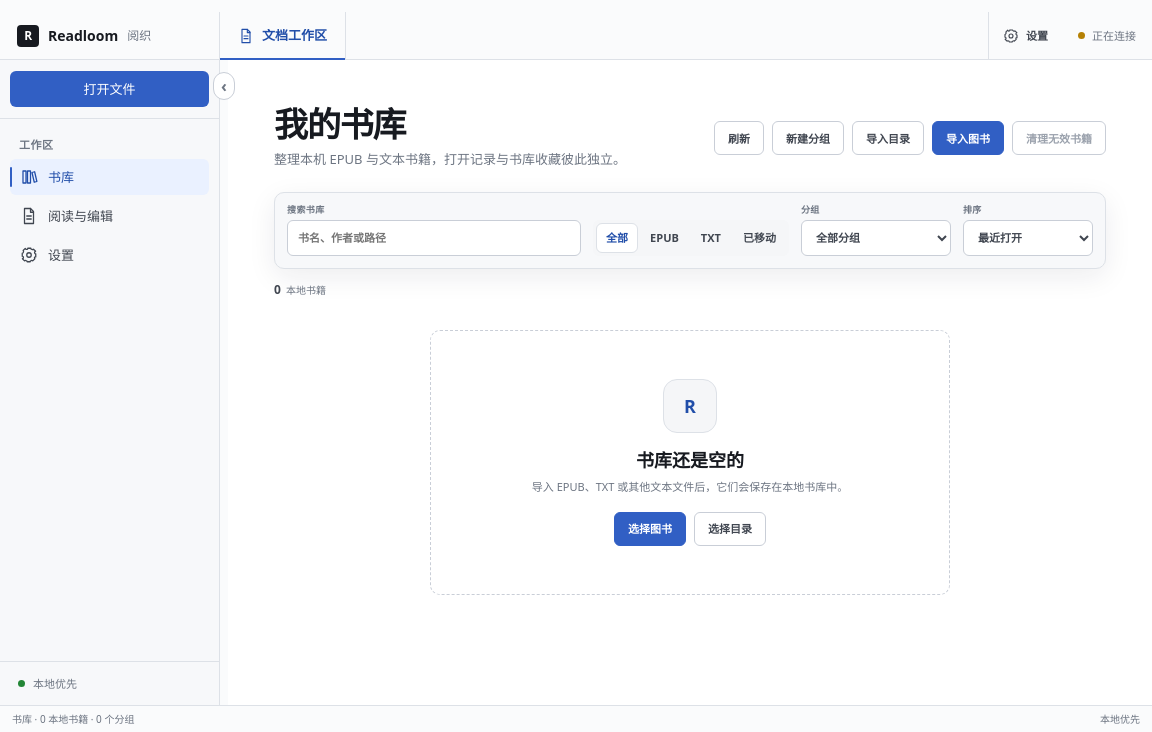
EPUB and TXT workspace tabs › shows recognized headings in the TXT outline after opening a text document
The width and height of the screenshot is (1152, 732).
Step 1. Click the button "打开文件" → (110, 89), box [10,71,209,107]
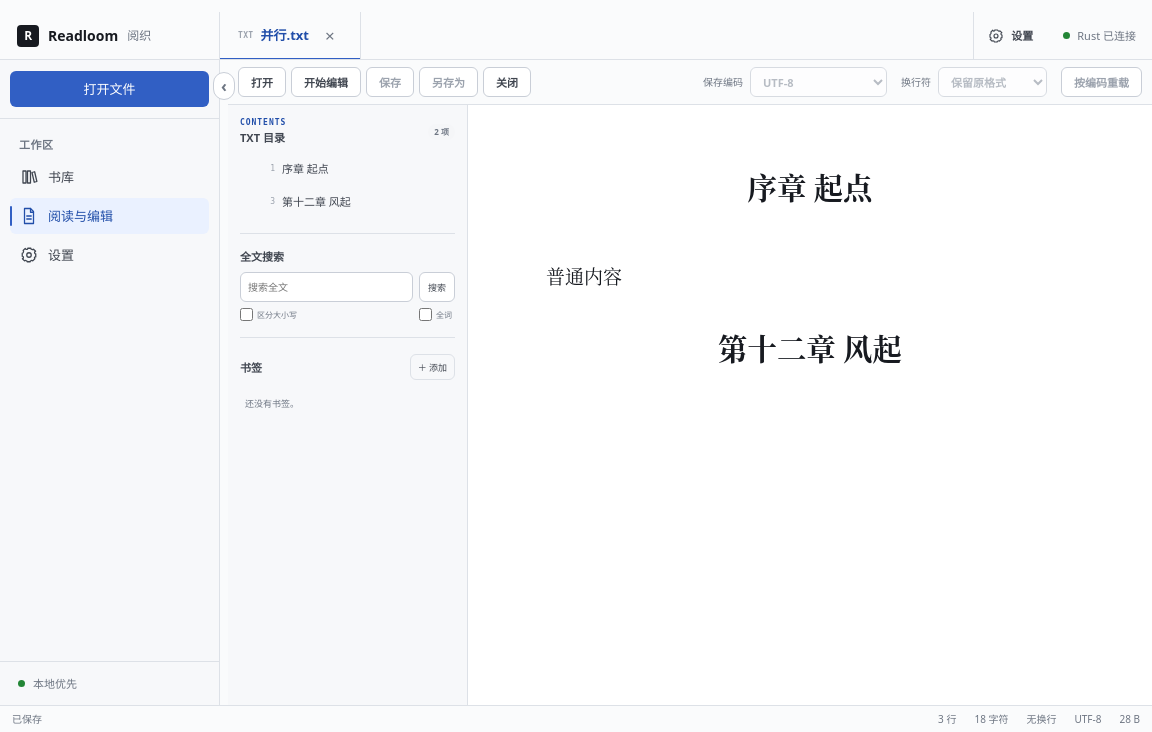
Now the button with aria-label "第 1 行 序章 起点" is shown, box [240,153,455,184]
Now the button with aria-label "第 3 行 第十二章 风起" is shown, box [240,186,455,217]
